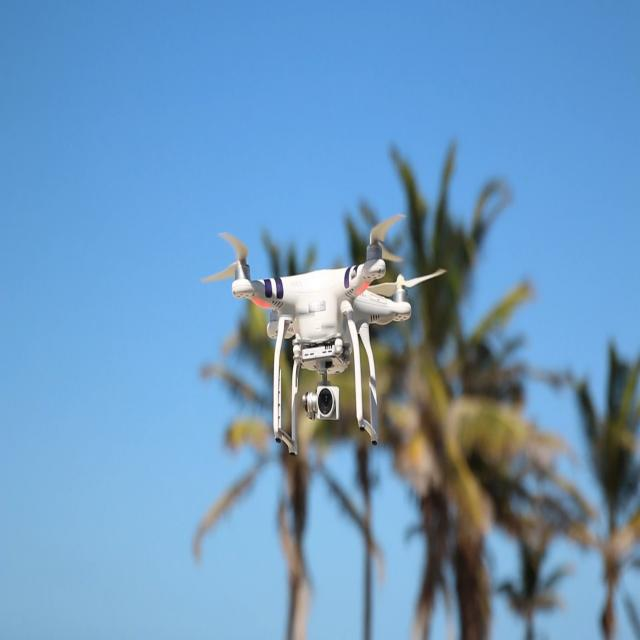Drone: (154, 197, 453, 468)
